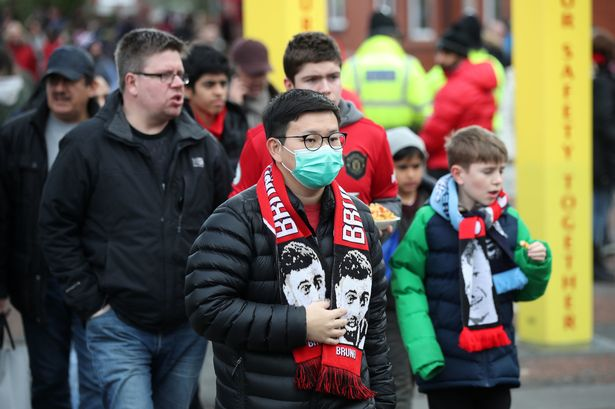with_mask: (285, 116, 344, 190)
without_mask: (140, 43, 185, 114), (461, 151, 505, 206), (43, 66, 86, 112), (193, 66, 228, 117), (393, 146, 426, 196)
